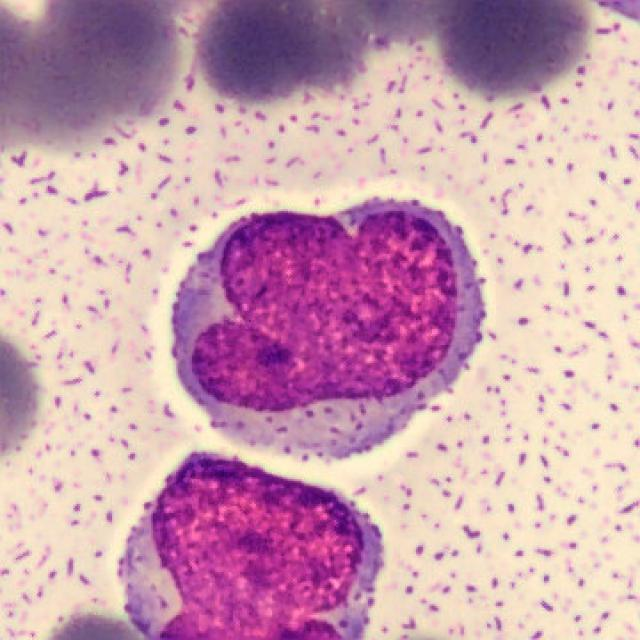Mieloblasto: (169, 200, 487, 461), (119, 454, 384, 640)
